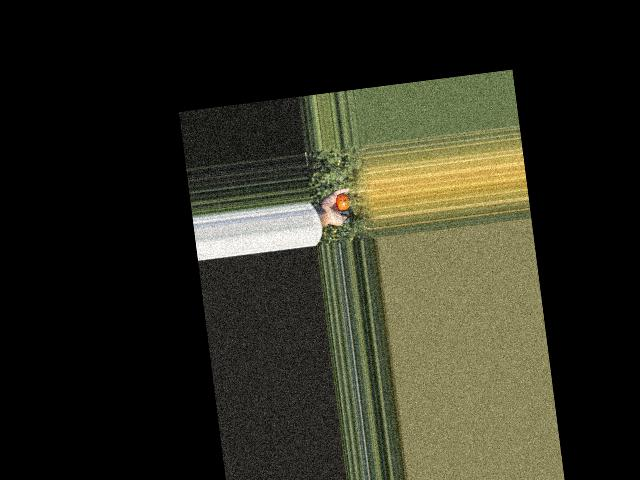tomato: (335, 192, 351, 210)
